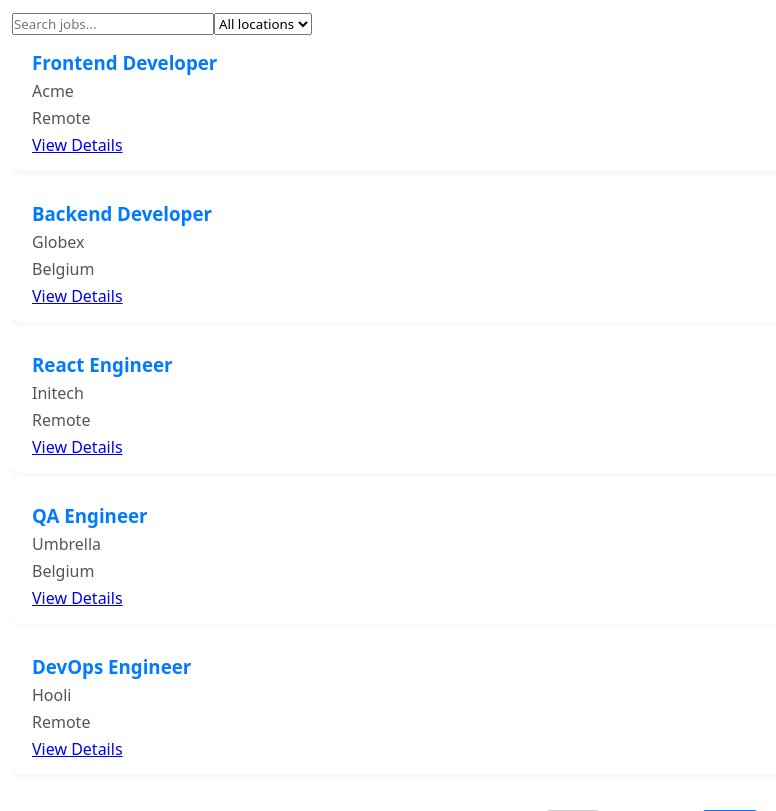
Scenario: JobList › filters the jobs by search text after the debounce delay
Expected: the heading "Frontend Developer" is shown, left=32, top=50, right=217, bottom=75
In the field with placeholder "Search jobs...": x=113, y=24 left=12, top=13, right=214, bottom=35, type "react"
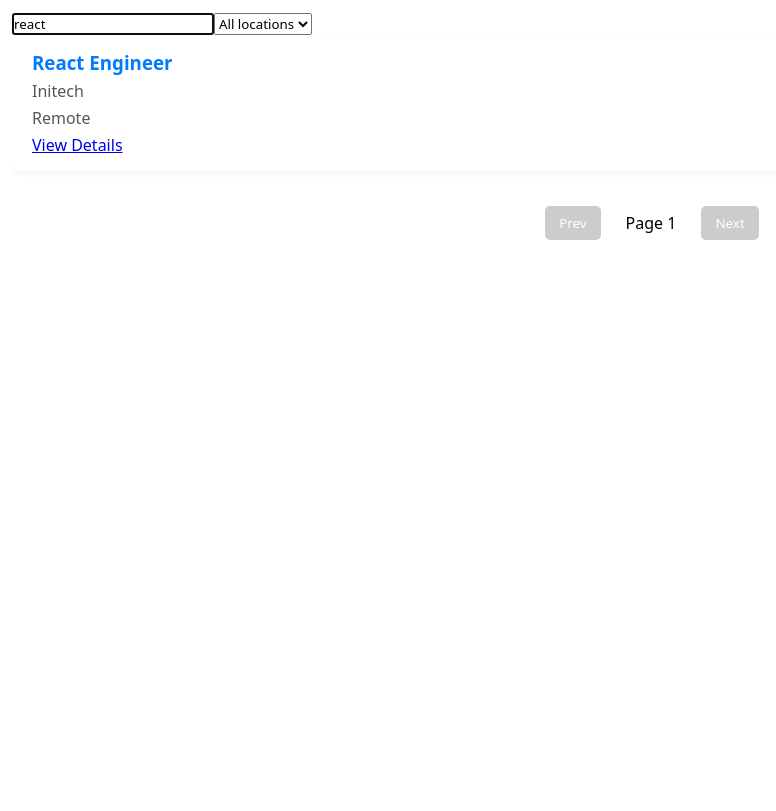
Expected: the heading "React Engineer" is shown, left=32, top=50, right=172, bottom=75
Expected: the heading "Frontend Developer" is gone
